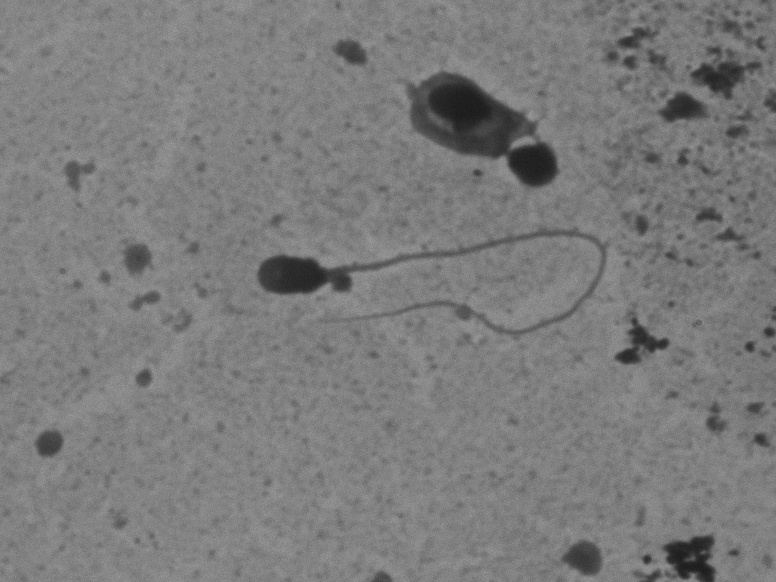Abnormal: (235, 217, 619, 371), (378, 35, 579, 195)
